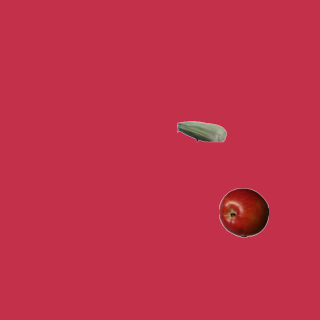Apple Braeburn: (218, 187, 268, 237)
Corn Husk: (176, 106, 226, 156)
